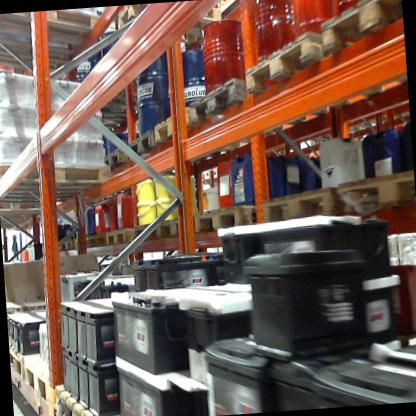pallet: (240, 24, 390, 141), (0, 144, 123, 205), (184, 69, 269, 154), (0, 7, 101, 71), (317, 0, 406, 72), (334, 161, 416, 220), (117, 0, 225, 43), (258, 181, 341, 231), (54, 375, 150, 416), (190, 194, 261, 235), (152, 100, 196, 159), (20, 352, 60, 416), (0, 197, 57, 234), (122, 118, 163, 169), (93, 131, 136, 171), (133, 218, 184, 243), (9, 345, 35, 389), (107, 221, 134, 249), (85, 229, 109, 250), (71, 234, 89, 254), (56, 237, 73, 255)
